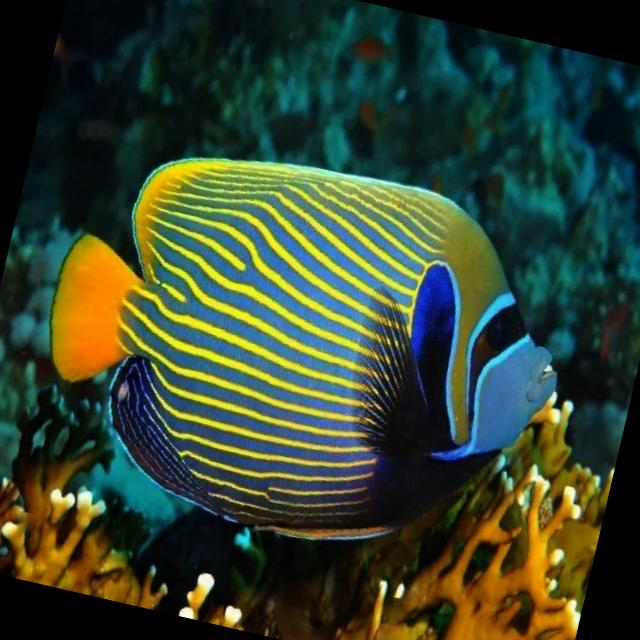AngelFish: (10, 112, 592, 602)
